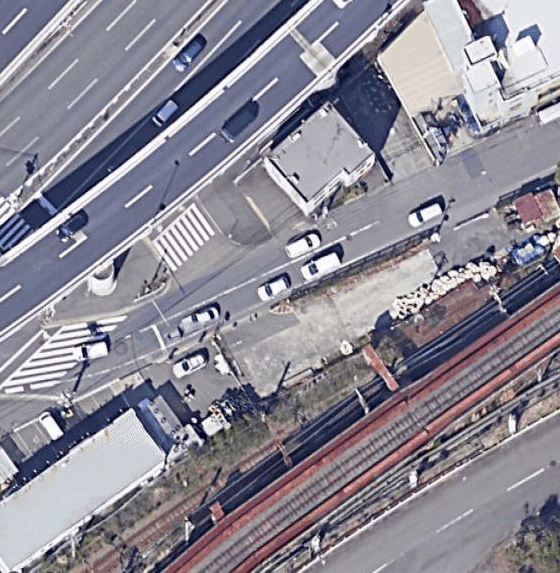rooftop: (426, 0, 559, 134)
